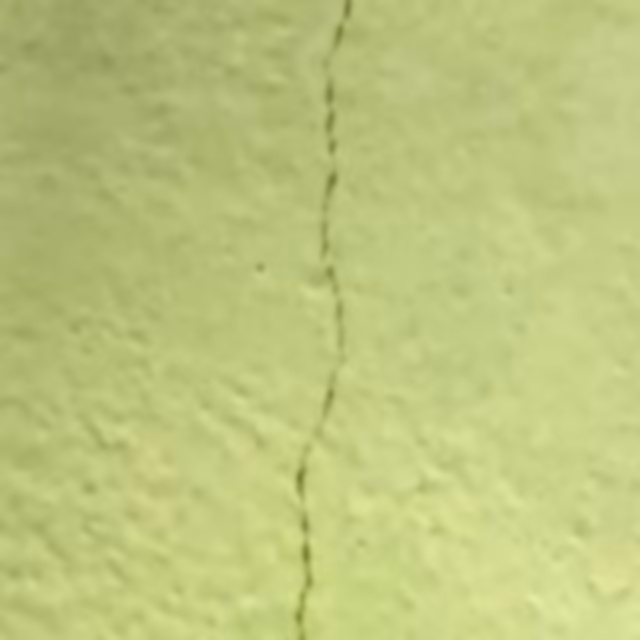SurfaceCrack: (252, 0, 386, 640)
